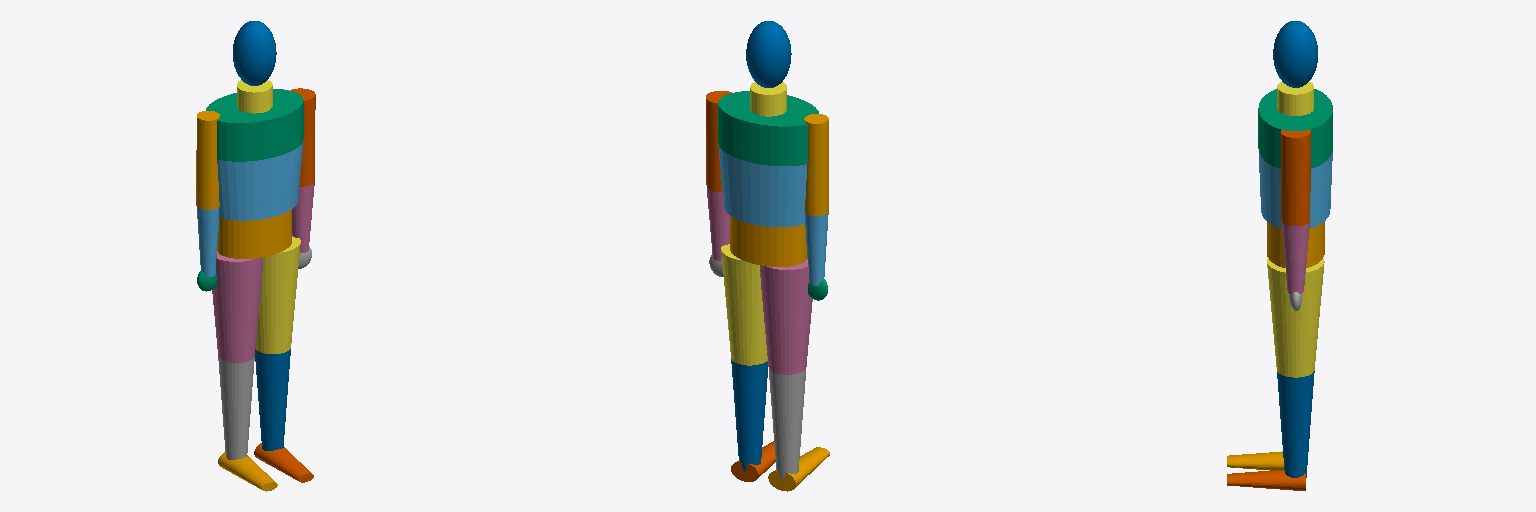
robot.urdf — simple_human:
<?xml version="1.0"?>
<robot name="simple_human">

  <link name="torso_bottom">
    <inertial>
      <origin xyz="0 0 0" rpy="0 0 0"/>
      <mass value="0.0"/>
      <inertia ixx="0" ixy="0" ixz="0" iyy="0" iyz="0" izz="0"/>
    </inertial>
    <visual>
      <geometry><mesh filename="torso_bottom.stl" scale="1 1 1"/></geometry>
    </visual>
  </link>
  <link name="torso_mid">
    <inertial>
      <origin xyz="0 0 0" rpy="0 0 0"/>
      <mass value="0.0"/>
      <inertia ixx="0" ixy="0" ixz="0" iyy="0" iyz="0" izz="0"/>
    </inertial>
    <visual>
      <geometry><mesh filename="torso_mid.stl" scale="1 1 1"/></geometry>
    </visual>
  </link>
  <link name="torso_top">
    <inertial>
      <origin xyz="0 0 0" rpy="0 0 0"/>
      <mass value="0.0"/>
      <inertia ixx="0" ixy="0" ixz="0" iyy="0" iyz="0" izz="0"/>
    </inertial>
    <visual>
      <geometry><mesh filename="torso_top.stl" scale="1 1 1"/></geometry>
    </visual>
  </link>
  <link name="neck">
    <inertial>
      <origin xyz="0 0 0" rpy="0 0 0"/>
      <mass value="0.0"/>
      <inertia ixx="0" ixy="0" ixz="0" iyy="0" iyz="0" izz="0"/>
    </inertial>
    <visual>
      <geometry><mesh filename="neck.stl" scale="1 1 1"/></geometry>
    </visual>
  </link>
  <link name="head">
    <inertial>
      <origin xyz="0 0 0" rpy="0 0 0"/>
      <mass value="0.0"/>
      <inertia ixx="0" ixy="0" ixz="0" iyy="0" iyz="0" izz="0"/>
    </inertial>
    <visual>
      <geometry><mesh filename="head.stl" scale="1 1 1"/></geometry>
    </visual>
  </link>
  <link name="upper_arm_left">
    <inertial>
      <origin xyz="0 0 0" rpy="0 0 0"/>
      <mass value="0.0"/>
      <inertia ixx="0" ixy="0" ixz="0" iyy="0" iyz="0" izz="0"/>
    </inertial>
    <visual>
      <geometry><mesh filename="upper_arm_left.stl" scale="1 1 1"/></geometry>
    </visual>
  </link>
  <link name="forearm_left">
    <inertial>
      <origin xyz="0 0 0" rpy="0 0 0"/>
      <mass value="0.0"/>
      <inertia ixx="0" ixy="0" ixz="0" iyy="0" iyz="0" izz="0"/>
    </inertial>
    <visual>
      <geometry><mesh filename="forearm_left.stl" scale="1 1 1"/></geometry>
    </visual>
  </link>
  <link name="hand_left">
    <inertial>
      <origin xyz="0 0 0" rpy="0 0 0"/>
      <mass value="0.0"/>
      <inertia ixx="0" ixy="0" ixz="0" iyy="0" iyz="0" izz="0"/>
    </inertial>
    <visual>
      <geometry><mesh filename="hand_left.stl" scale="1 1 1"/></geometry>
    </visual>
  </link>
  <link name="upper_arm_right">
    <inertial>
      <origin xyz="0 0 0" rpy="0 0 0"/>
      <mass value="0.0"/>
      <inertia ixx="0" ixy="0" ixz="0" iyy="0" iyz="0" izz="0"/>
    </inertial>
    <visual>
      <geometry><mesh filename="upper_arm_right.stl" scale="1 1 1"/></geometry>
    </visual>
  </link>
  <link name="forearm_right">
    <inertial>
      <origin xyz="0 0 0" rpy="0 0 0"/>
      <mass value="0.0"/>
      <inertia ixx="0" ixy="0" ixz="0" iyy="0" iyz="0" izz="0"/>
    </inertial>
    <visual>
      <geometry><mesh filename="forearm_right.stl" scale="1 1 1"/></geometry>
    </visual>
  </link>
  <link name="hand_right">
    <inertial>
      <origin xyz="0 0 0" rpy="0 0 0"/>
      <mass value="0.0"/>
      <inertia ixx="0" ixy="0" ixz="0" iyy="0" iyz="0" izz="0"/>
    </inertial>
    <visual>
      <geometry><mesh filename="hand_right.stl" scale="1 1 1"/></geometry>
    </visual>
  </link>
  <link name="upper_leg_left">
    <inertial>
      <origin xyz="0 0 0" rpy="0 0 0"/>
      <mass value="0.0"/>
      <inertia ixx="0" ixy="0" ixz="0" iyy="0" iyz="0" izz="0"/>
    </inertial>
    <visual>
      <geometry><mesh filename="upper_leg_left.stl" scale="1 1 1"/></geometry>
    </visual>
  </link>
  <link name="lower_leg_left">
    <inertial>
      <origin xyz="0 0 0" rpy="0 0 0"/>
      <mass value="0.0"/>
      <inertia ixx="0" ixy="0" ixz="0" iyy="0" iyz="0" izz="0"/>
    </inertial>
    <visual>
      <geometry><mesh filename="lower_leg_left.stl" scale="1 1 1"/></geometry>
    </visual>
  </link>
  <link name="foot_left">
    <inertial>
      <origin xyz="0 0 0" rpy="0 0 0"/>
      <mass value="0.0"/>
      <inertia ixx="0" ixy="0" ixz="0" iyy="0" iyz="0" izz="0"/>
    </inertial>
    <visual>
      <geometry><mesh filename="foot_left.stl" scale="1 1 1"/></geometry>
    </visual>
  </link>
  <link name="upper_leg_right">
    <inertial>
      <origin xyz="0 0 0" rpy="0 0 0"/>
      <mass value="0.0"/>
      <inertia ixx="0" ixy="0" ixz="0" iyy="0" iyz="0" izz="0"/>
    </inertial>
    <visual>
      <geometry><mesh filename="upper_leg_right.stl" scale="1 1 1"/></geometry>
    </visual>
  </link>
  <link name="lower_leg_right">
    <inertial>
      <origin xyz="0 0 0" rpy="0 0 0"/>
      <mass value="0.0"/>
      <inertia ixx="0" ixy="0" ixz="0" iyy="0" iyz="0" izz="0"/>
    </inertial>
    <visual>
      <geometry><mesh filename="lower_leg_right.stl" scale="1 1 1"/></geometry>
    </visual>
  </link>
  <link name="foot_right">
    <inertial>
      <origin xyz="0 0 0" rpy="0 0 0"/>
      <mass value="0.0"/>
      <inertia ixx="0" ixy="0" ixz="0" iyy="0" iyz="0" izz="0"/>
    </inertial>
    <visual>
      <geometry><mesh filename="foot_right.stl" scale="1 1 1"/></geometry>
    </visual>
  </link>
  <joint name="torso_bottom_to_mid" type="revolute">
    <parent link="torso_bottom"/>
    <child  link="torso_mid"/>
    <origin xyz="0.000000 0.000000 0.196715" rpy="0 0 0"/>
    <axis  xyz="0 0 1"/>
    <limit effort="1" lower="-1.57" upper="1.57" velocity="1"/>
  </joint>
  <joint name="torso_mid_to_top" type="revolute">
    <parent link="torso_mid"/>
    <child  link="torso_top"/>
    <origin xyz="0.000000 0.000000 0.192782" rpy="0 0 0"/>
    <axis  xyz="0 0 1"/>
    <limit effort="1" lower="-1.57" upper="1.57" velocity="1"/>
  </joint>
  <joint name="torso_top_to_neck" type="revolute">
    <parent link="torso_top"/>
    <child  link="neck"/>
    <origin xyz="0.000000 0.000000 0.115913" rpy="0 0 0"/>
    <axis  xyz="0 0 1"/>
    <limit effort="1" lower="-1.57" upper="1.57" velocity="1"/>
  </joint>
  <joint name="neck_to_head" type="revolute">
    <parent link="neck"/>
    <child  link="head"/>
    <origin xyz="0.000000 0.000000 0.163569" rpy="0 0 0"/>
    <axis  xyz="0 0 1"/>
    <limit effort="1" lower="-1.57" upper="1.57" velocity="1"/>
  </joint>
  <joint name="torso_mid_to_upper_arm_left" type="revolute">
    <parent link="torso_mid"/>
    <child  link="upper_arm_left"/>
    <origin xyz="0.188175 0.000000 0.100139" rpy="0 0 1.57"/>
    <axis  xyz="0 0 1"/>
    <limit effort="1" lower="-1.57" upper="1.57" velocity="1"/>
  </joint>
  <joint name="upper_arm_left_to_forearm" type="revolute">
    <parent link="upper_arm_left"/>
    <child  link="forearm_left"/>
    <origin xyz="0.000000 0.000000 -0.301917" rpy="0 0 0"/>
    <axis  xyz="1 0 0"/>
    <limit effort="1" lower="-1.57" upper="1.57" velocity="1"/>
  </joint>
  <joint name="forearm_to_hand" type="revolute">
    <parent link="forearm_left"/>
    <child  link="hand_left"/>
    <origin xyz="0.000000 0.000000 -0.158372" rpy="0 0 1.57"/>
    <axis  xyz="0 0 1"/>
    <limit effort="1" lower="-1.57" upper="1.57" velocity="1"/>
  </joint>
  <joint name="torso_mid_to_upper_arm_right" type="revolute">
    <parent link="torso_mid"/>
    <child  link="upper_arm_right"/>
    <origin xyz="-0.188175 0.000000 0.100139" rpy="0 0 -1.57"/>
    <axis  xyz="0 0 1"/>
    <limit effort="1" lower="-1.57" upper="1.57" velocity="1"/>
  </joint>
  <joint name="upper_arm_right_to_forearm" type="revolute">
    <parent link="upper_arm_right"/>
    <child  link="forearm_right"/>
    <origin xyz="0.000000 0.000000 -0.301917" rpy="0 0 0"/>
    <axis  xyz="0 0 1"/>
    <limit effort="1" lower="-1.57" upper="1.57" velocity="1"/>
  </joint>
  <joint name="forearm_to_hand_right" type="revolute">
    <parent link="forearm_right"/>
    <child  link="hand_right"/>
    <origin xyz="0.000000 0.000000 -0.158372" rpy="0 0 1.57"/>
    <axis  xyz="0 0 1"/>
    <limit effort="1" lower="-1.57" upper="1.57" velocity="1"/>
  </joint>
  <joint name="torso_bottom_to_upper_leg_left" type="revolute">
    <parent link="torso_bottom"/>
    <child  link="upper_leg_left"/>
    <origin xyz="0.073802 0.000000 -0.283862" rpy="0 0 0"/>
    <axis  xyz="0 0 1"/>
    <limit effort="1" lower="-1.57" upper="1.57" velocity="1"/>
  </joint>
  <joint name="upper_leg_left_to_lower_leg" type="revolute">
    <parent link="upper_leg_left"/>
    <child  link="lower_leg_left"/>
    <origin xyz="0.000000 0.000000 -0.412969" rpy="0 0 0"/>
    <axis  xyz="0 0 1"/>
    <limit effort="1" lower="-1.57" upper="1.57" velocity="1"/>
  </joint>
  <joint name="lower_leg_left_to_foot" type="revolute">
    <parent link="lower_leg_left"/>
    <child  link="foot_left"/>
    <origin xyz="0.000000 -0.099630 -0.208102" rpy="0 0 -1.57"/>
    <axis  xyz="0 0 1"/>
    <limit effort="1" lower="-1.57" upper="1.57" velocity="1"/>
  </joint>
  <joint name="torso_bottom_to_upper_leg_right" type="revolute">
    <parent link="torso_bottom"/>
    <child  link="upper_leg_right"/>
    <origin xyz="-0.073802 0.000000 -0.283862" rpy="0 0 0"/>
    <axis  xyz="0 0 1"/>
    <limit effort="1" lower="-1.57" upper="1.57" velocity="1"/>
  </joint>
  <joint name="upper_leg_right_to_lower_leg" type="revolute">
    <parent link="upper_leg_right"/>
    <child  link="lower_leg_right"/>
    <origin xyz="0.000000 0.000000 -0.412969" rpy="0 0 0"/>
    <axis  xyz="0 0 1"/>
    <limit effort="1" lower="-1.57" upper="1.57" velocity="1"/>
  </joint>
  <joint name="lower_leg_right_to_foot" type="revolute">
    <parent link="lower_leg_right"/>
    <child  link="foot_right"/>
    <origin xyz="0.000000 -0.099630 -0.208102" rpy="0 0 1.57"/>
    <axis  xyz="0 0 1"/>
    <limit effort="1" lower="-1.57" upper="1.57" velocity="1"/>
  </joint>
</robot>

--- Facts derived from the render (not from the file) ---
Views: 3 orthographic renders of the robot side by side, from view 1: azimuth 30°, elevation 25°; view 2: azimuth 150°, elevation 25°; view 3: azimuth 270°, elevation 25°.
Model simple_human with 17 links and 16 joints (16 revolute), rooted at torso_bottom, posed every joint at zero.
Visible links, largest first — view 1: torso_top, torso_mid, upper_leg_right, upper_leg_left, torso_bottom, lower_leg_right, lower_leg_left, head, upper_arm_right, upper_arm_left, forearm_right, forearm_left (+3 smaller); view 2: torso_top, torso_mid, upper_leg_right, upper_leg_left, torso_bottom, lower_leg_right, lower_leg_left, head, upper_arm_right, upper_arm_left, forearm_right, forearm_left (+3 smaller); view 3: upper_leg_left, torso_top, lower_leg_left, upper_arm_left, torso_mid, head, forearm_left, torso_bottom, foot_left, neck, foot_right.
Link boxes in pixels (left/top/right/bottom): torso_top: left=206, top=89, right=303, bottom=161; torso_mid: left=217, top=140, right=303, bottom=220; upper_leg_right: left=212, top=251, right=262, bottom=362; upper_leg_left: left=256, top=236, right=300, bottom=353; torso_bottom: left=217, top=209, right=291, bottom=258; lower_leg_right: left=218, top=357, right=254, bottom=459; lower_leg_left: left=255, top=349, right=290, bottom=450; head: left=233, top=21, right=276, bottom=85; upper_arm_right: left=196, top=111, right=219, bottom=209; upper_arm_left: left=290, top=88, right=315, bottom=186; forearm_right: left=196, top=202, right=218, bottom=276; forearm_left: left=292, top=182, right=314, bottom=252; torso_top: left=718, top=91, right=818, bottom=165; torso_mid: left=718, top=144, right=806, bottom=226; upper_leg_right: left=760, top=259, right=812, bottom=374; upper_leg_left: left=721, top=244, right=767, bottom=365; torso_bottom: left=730, top=216, right=806, bottom=266; lower_leg_right: left=769, top=369, right=805, bottom=480; lower_leg_left: left=731, top=359, right=767, bottom=471; head: left=746, top=21, right=791, bottom=87; upper_arm_right: left=804, top=114, right=828, bottom=215; upper_arm_left: left=706, top=91, right=731, bottom=191; forearm_right: left=805, top=211, right=828, bottom=285; forearm_left: left=707, top=188, right=729, bottom=260; upper_leg_left: left=1267, top=258, right=1324, bottom=377; torso_top: left=1258, top=89, right=1332, bottom=168; lower_leg_left: left=1277, top=371, right=1314, bottom=477; upper_arm_left: left=1281, top=130, right=1310, bottom=225; torso_mid: left=1258, top=148, right=1332, bottom=228; head: left=1273, top=21, right=1317, bottom=87; forearm_left: left=1281, top=221, right=1309, bottom=293; torso_bottom: left=1267, top=222, right=1324, bottom=267; foot_left: left=1227, top=470, right=1305, bottom=490; neck: left=1277, top=82, right=1313, bottom=115; foot_right: left=1227, top=451, right=1283, bottom=470.
Bounding box of the posed robot: 0.4729 × 0.3635 × 1.73 m (x, y, z).
Meshes: 17 distinct files referenced, 17 mesh visuals loaded (17 binary STL).
